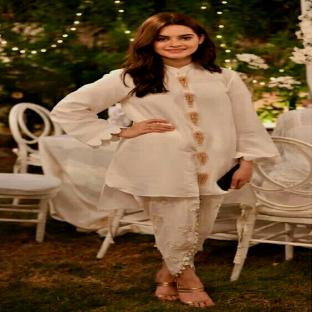Human: (52, 12, 279, 307)
